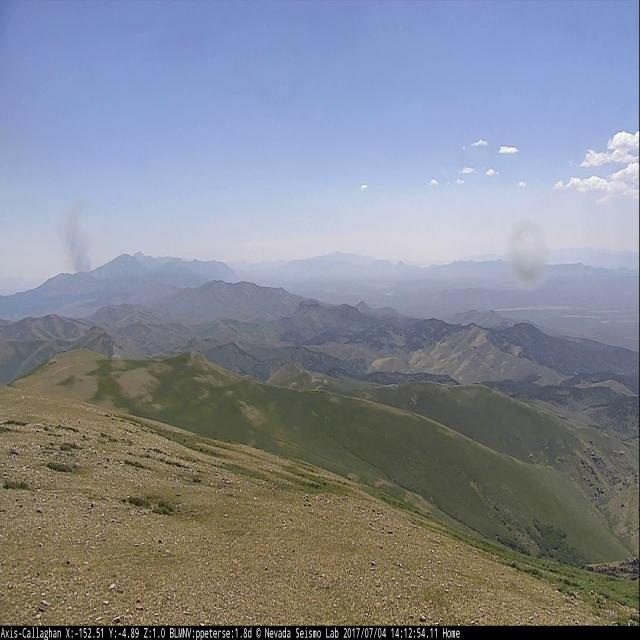smoke: (54, 195, 92, 272)
